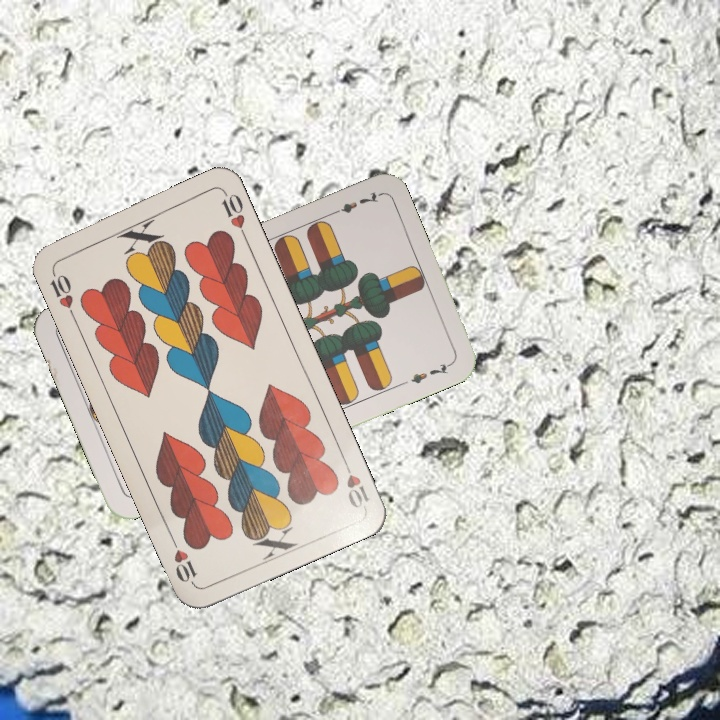E7: (325, 188, 382, 219)
H10: (338, 454, 372, 511), (45, 265, 79, 322)
